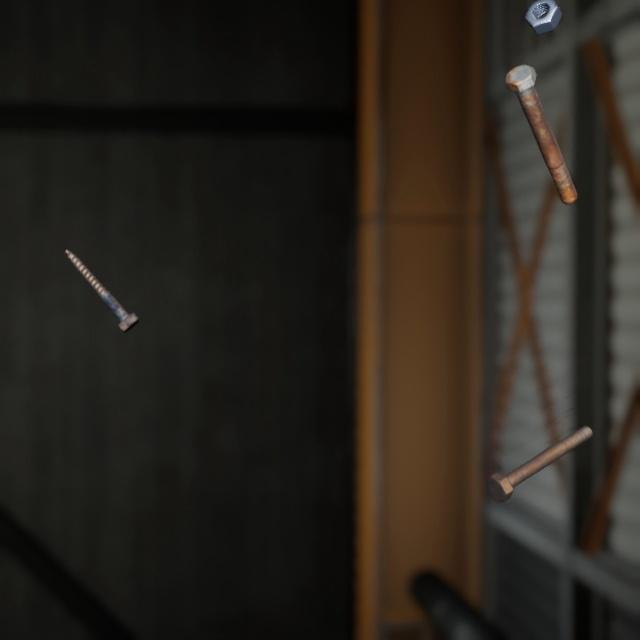bolt: (500, 47, 581, 196), (482, 401, 597, 485), (60, 228, 143, 320)
nut: (520, 0, 567, 31)
